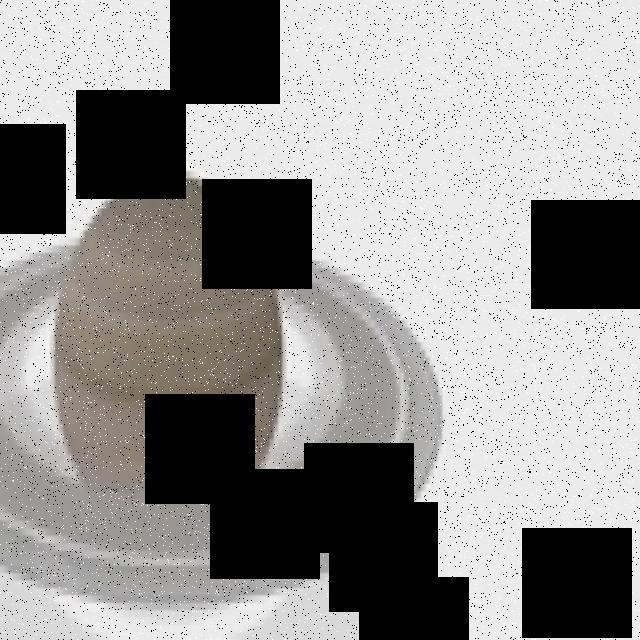Saturn: (0, 164, 442, 603)
